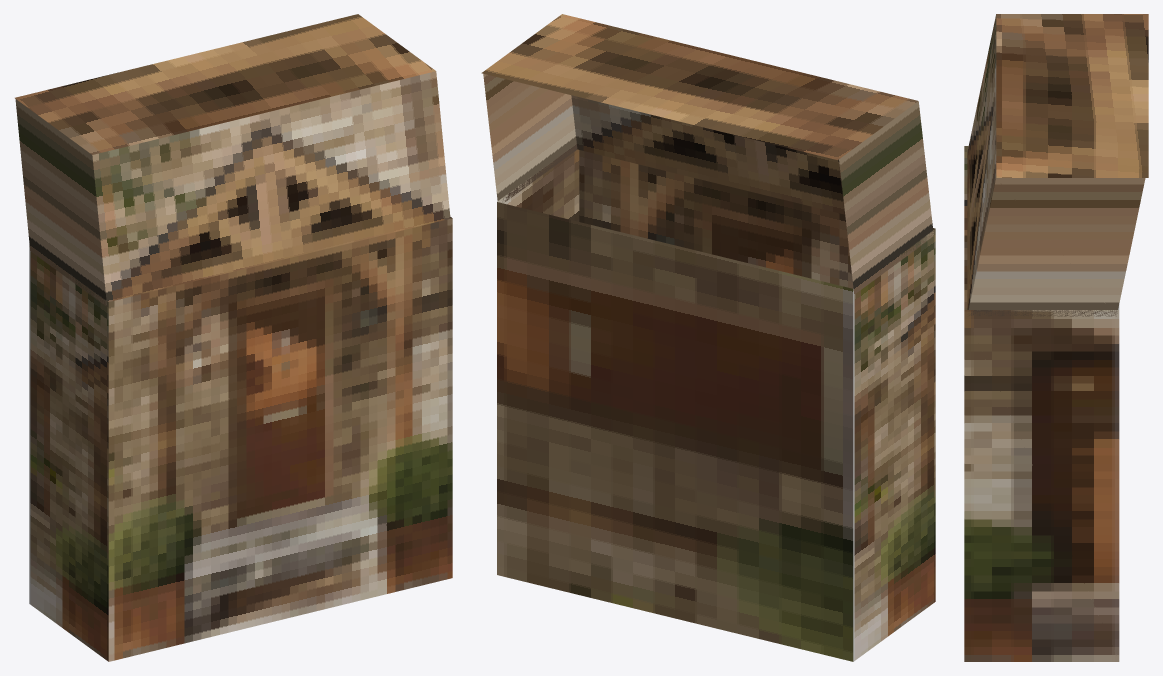
File: casa6.glb
The picture shows the model from 3 angles, left to right: view 1: azimuth 30°, elevation 25°; view 2: azimuth 150°, elevation 25°; view 3: azimuth 270°, elevation 25°; orthographic projection. The views are drawn at different scales.
Parts seen in each view (by area): view 1: Cube; view 2: Cube; view 3: Cube.
Boxes of the visible parts, x1,y1,x2,y2 form: Cube: (15,14,452,661); Cube: (481,14,935,661); Cube: (964,14,1148,661).
Bounding box in the file's own units: 5 × 6.88 × 2.38.
1 material, 1 textured.
